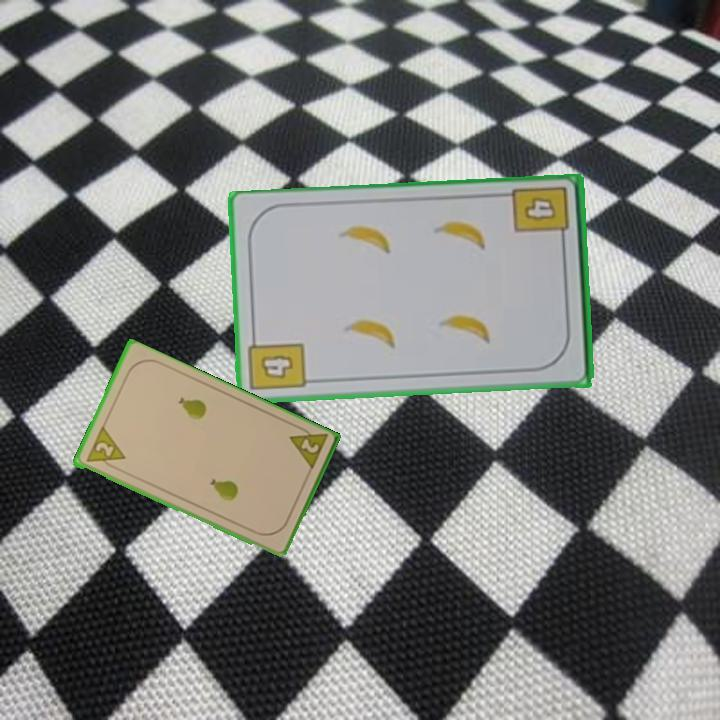2p: (81, 424, 128, 473), (297, 435, 322, 456)
4b: (510, 183, 573, 249), (245, 331, 309, 394)
